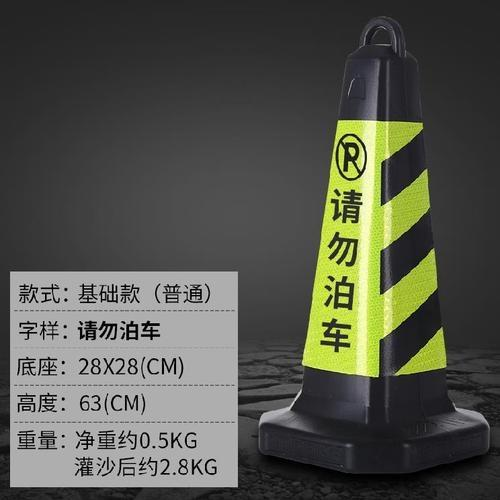cone_barrel: (261, 26, 475, 467)
